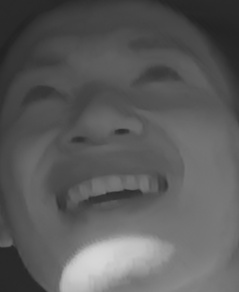eye: (133, 62, 187, 98), (18, 80, 71, 109)
mouth: (45, 161, 172, 222)
